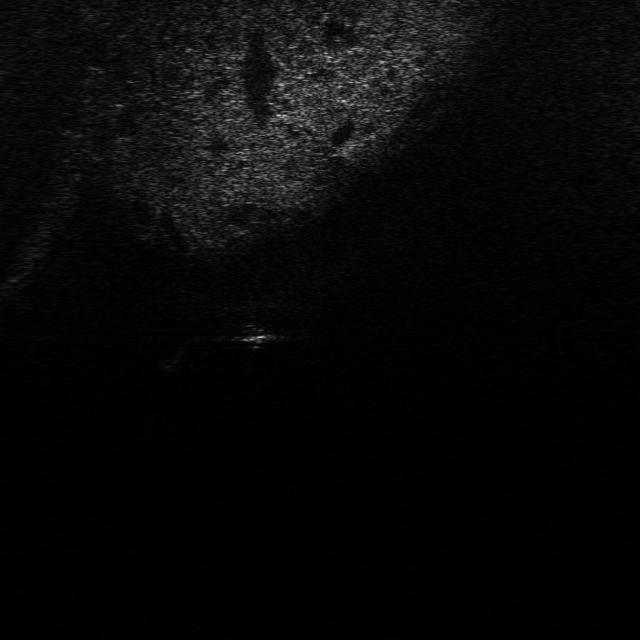cube: (230, 316, 278, 349)
cylinder: (156, 338, 192, 377)
